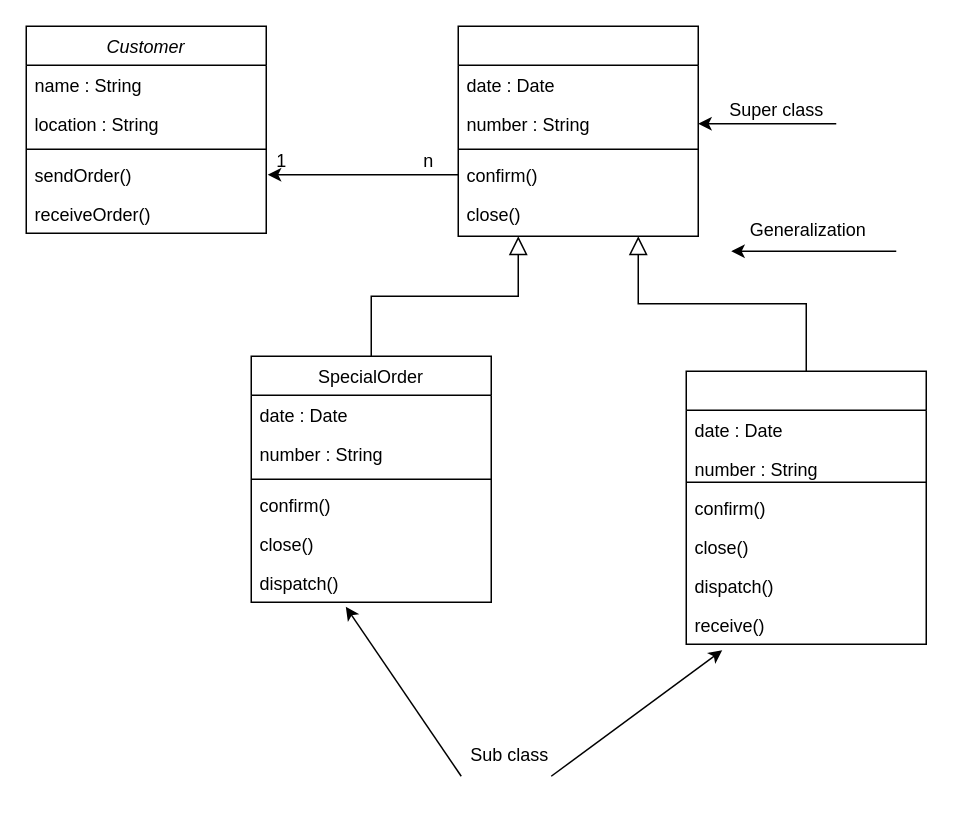
This 953x815 diagram has some shape labels left out. Each missing label, with the box of its shape:
NormalOrder: (685, 370, 926, 644)
Order: (457, 25, 698, 236)
